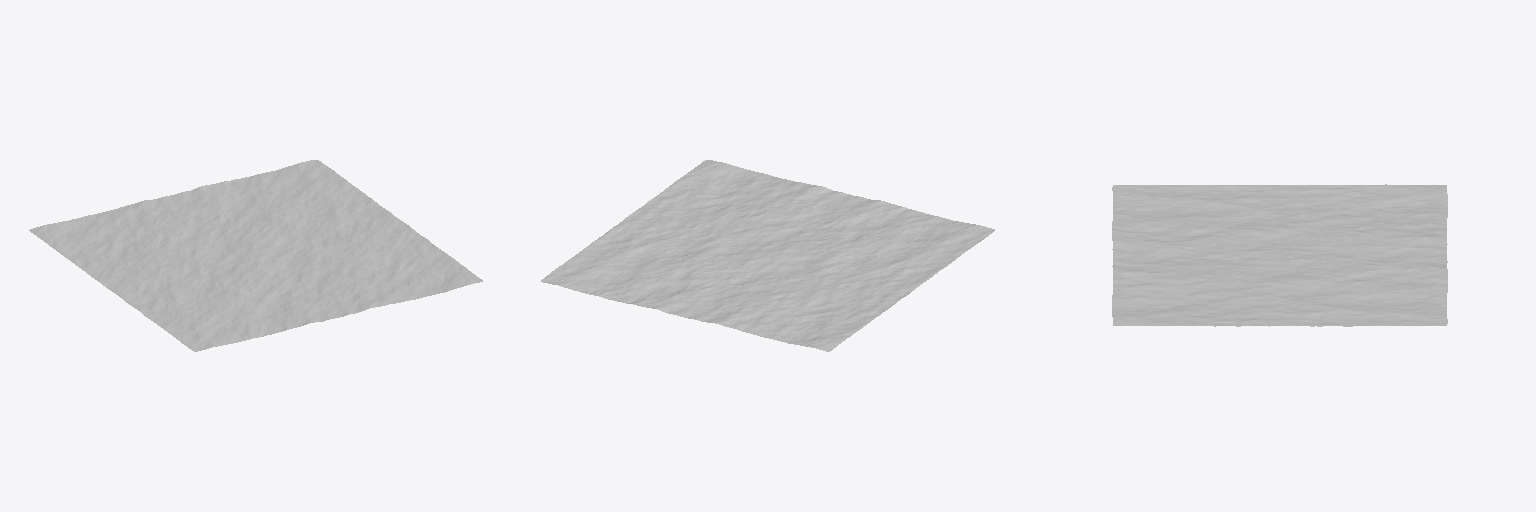
File: sea_000044.obj
3 renders of one model, left to right at view 1: azimuth 30°, elevation 25°; view 2: azimuth 150°, elevation 25°; view 3: azimuth 270°, elevation 25°, orthographic.
Parts seen in each view (by area): view 1: Plane; view 2: Plane; view 3: Plane.
Part boxes in pixels (x1,y1,x2,y2): Plane: (29, 160, 482, 351); Plane: (541, 160, 994, 351); Plane: (1112, 184, 1447, 326).
Bounding box in the file's own units: 201 × 1.83 × 201.